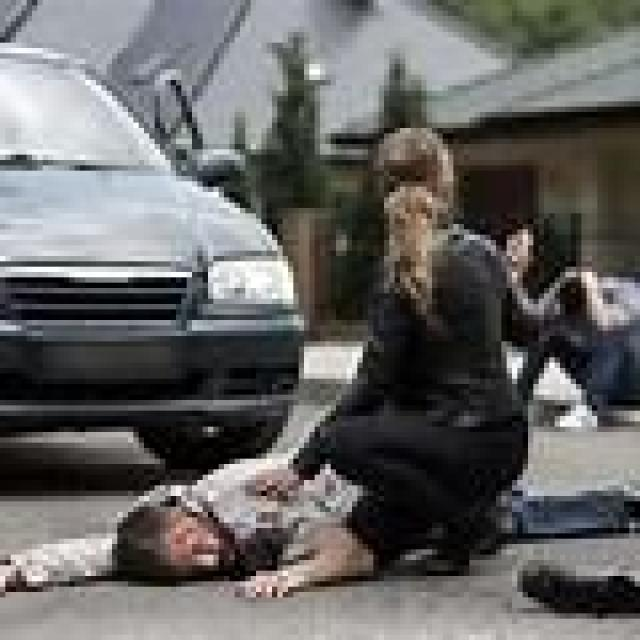Nguy hiểm: (0, 40, 640, 616)
